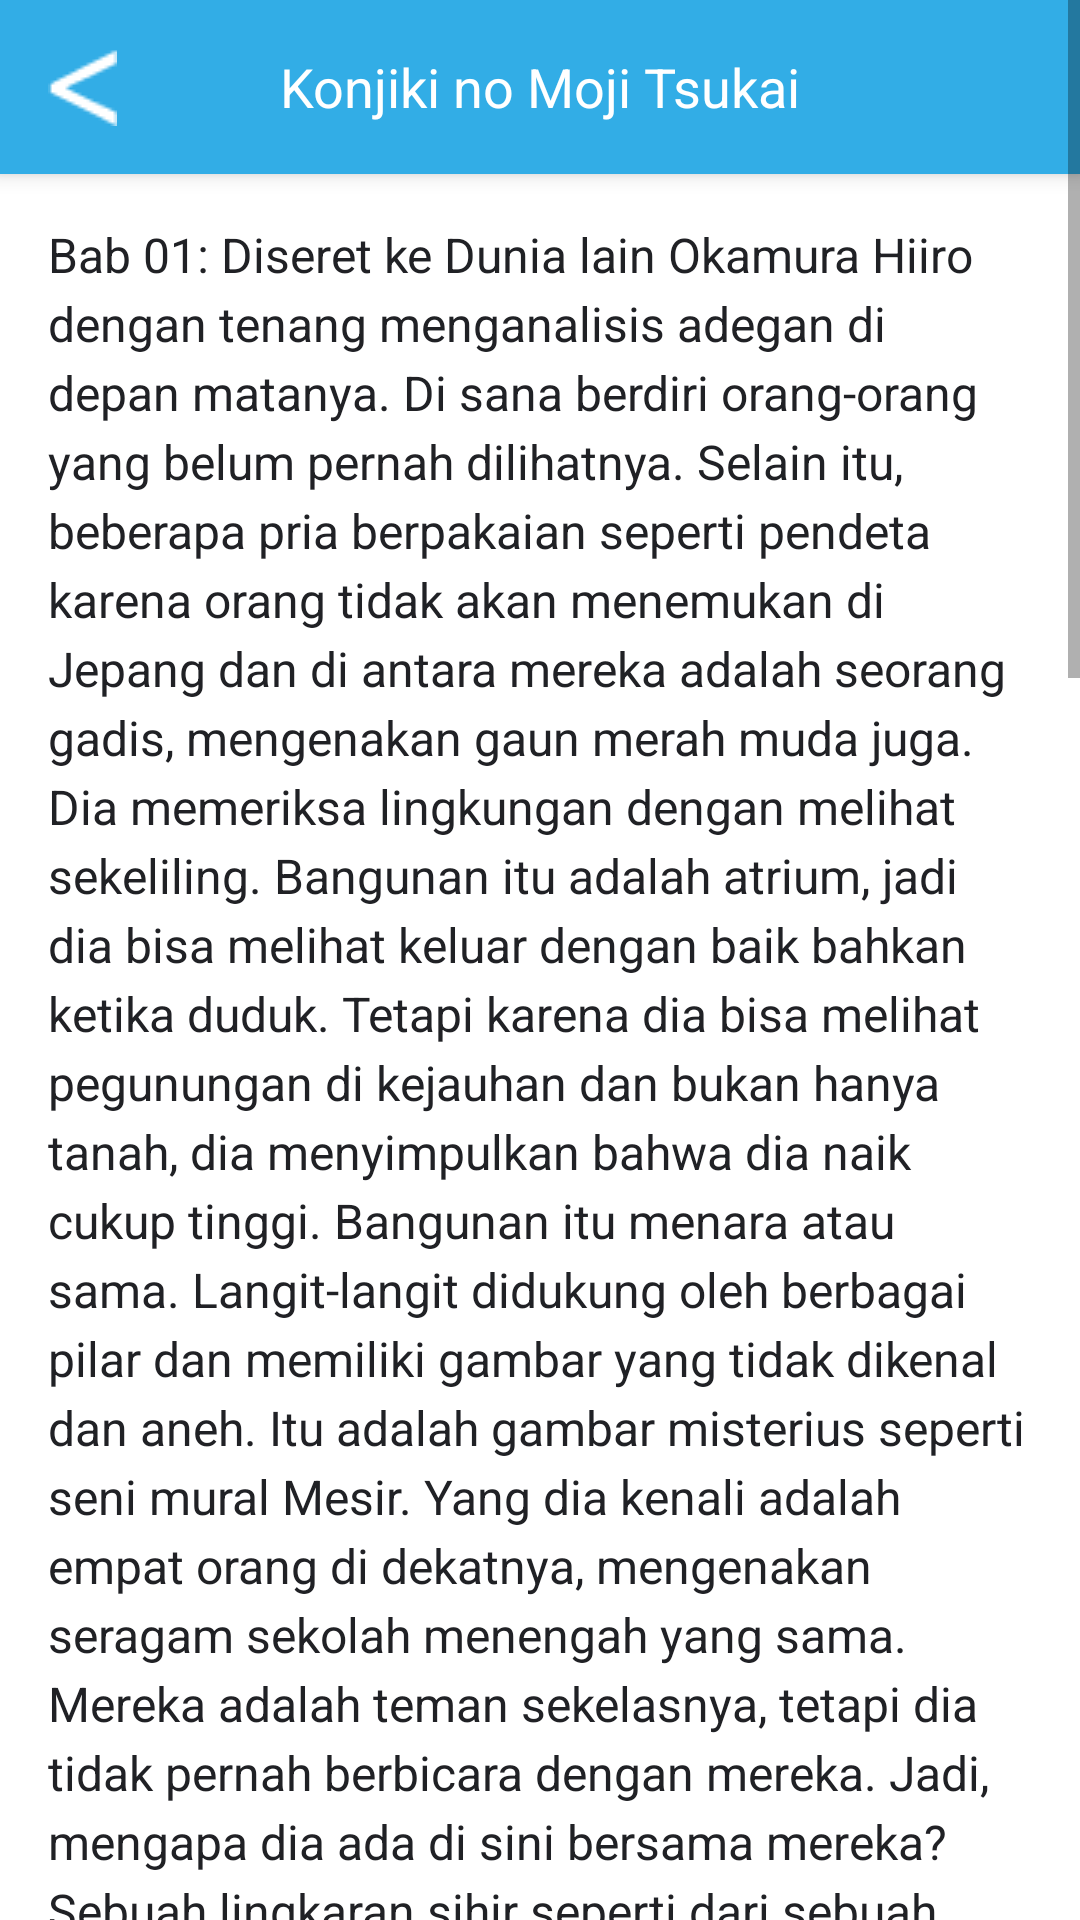

Named icons in this screenshot (1080px x 1920px) and their bounding boxes, BBox(x1, y1, x2, y2):
back: BBox(48, 50, 117, 126)
